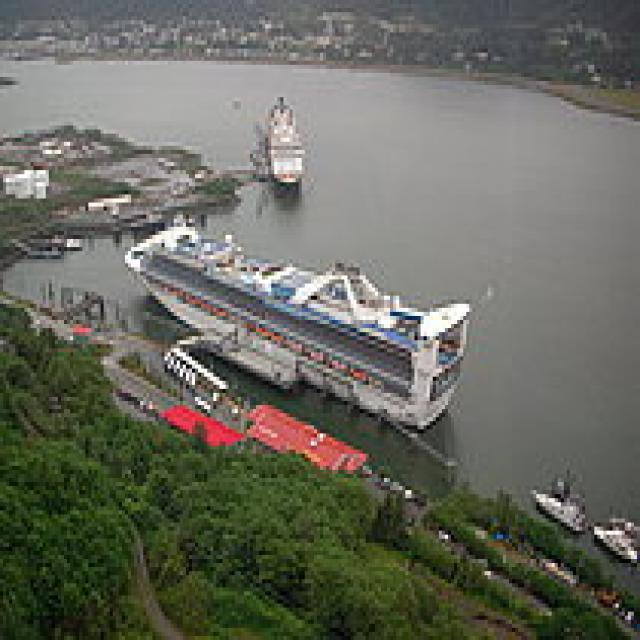Ship: (120, 204, 480, 431)
